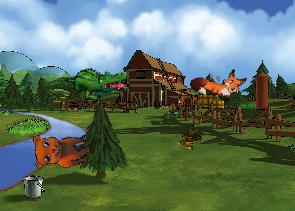bear: (27, 120, 94, 176)
crocodile: (63, 55, 132, 110)
fox: (188, 57, 248, 107)
